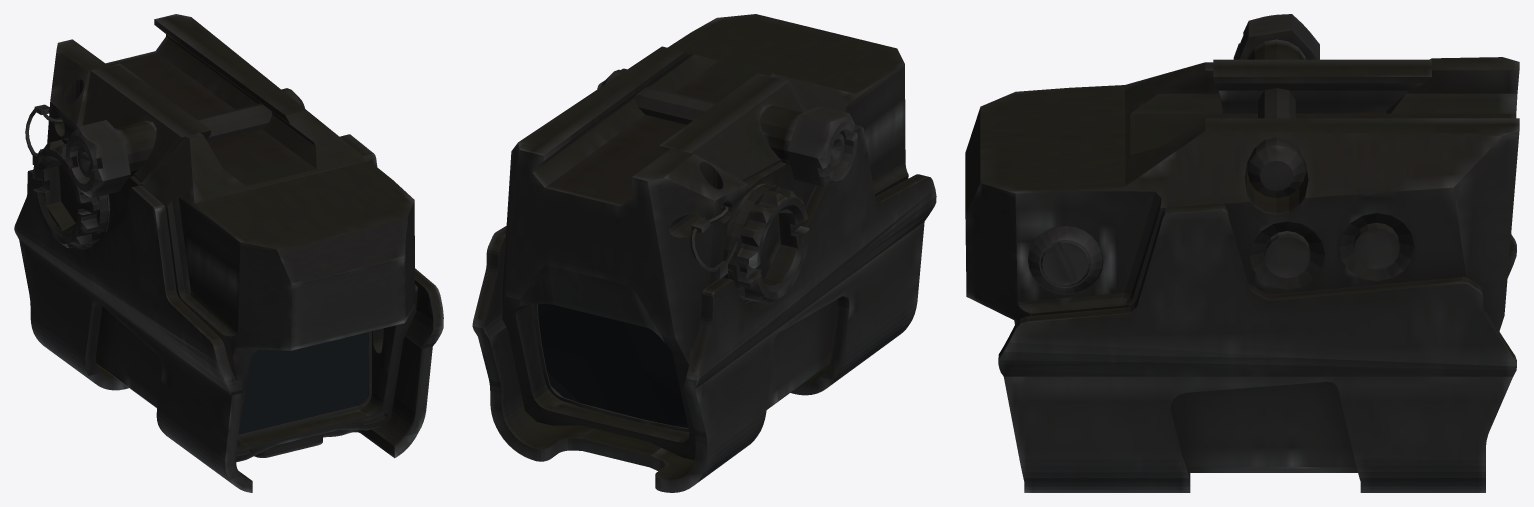
3 renders of one model, left to right at view 1: azimuth 30°, elevation 25°; view 2: azimuth 150°, elevation 25°; view 3: azimuth 270°, elevation 25°, orthographic. The views are drawn at different scales.
Visible parts, largest first — view 1: TW_60a23797a37c940de7062d02_PZ_Import; view 2: TW_60a23797a37c940de7062d02_PZ_Import; view 3: TW_60a23797a37c940de7062d02_PZ_Import.
Boxes of the visible parts, x1,y1,x2,y2 form: TW_60a23797a37c940de7062d02_PZ_Import: [14, 14, 443, 492]; TW_60a23797a37c940de7062d02_PZ_Import: [472, 14, 936, 492]; TW_60a23797a37c940de7062d02_PZ_Import: [965, 14, 1519, 492].
Size of the model in its own units: 0.0332 by 0.053 by 0.0382.
Materials: 1 (1 with a texture image).
